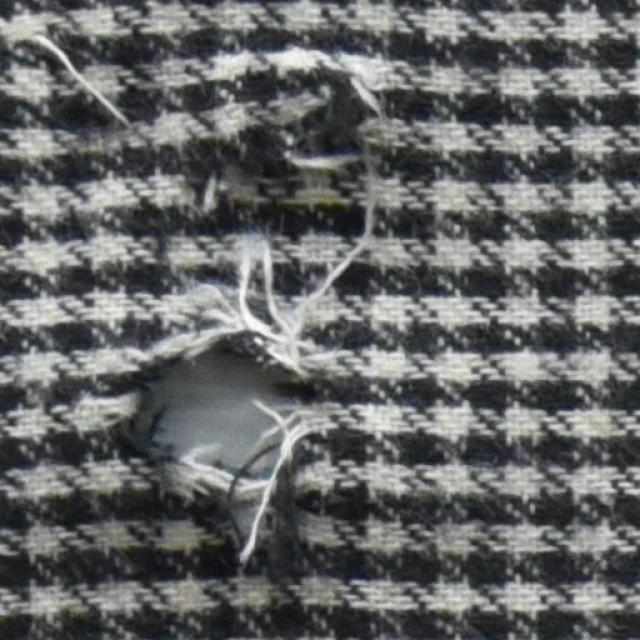Hole: (152, 354, 284, 471)
Snag: (183, 28, 396, 240), (143, 252, 346, 384)
